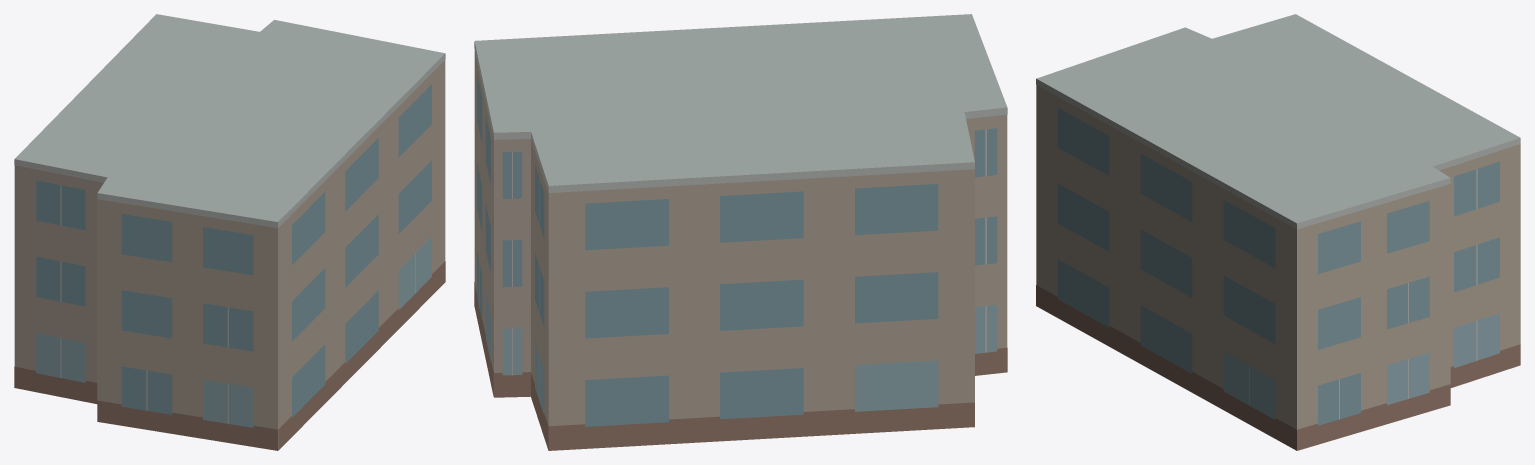
The model's file is survey-upis-32602744.glb.
3 renders of one model, left to right at view 1: azimuth 30°, elevation 25°; view 2: azimuth 150°, elevation 25°; view 3: azimuth 270°, elevation 25°, orthographic. The views are drawn at different scales.
Parts seen in each view (by area): view 1: survey-upis-32602744.tmp; view 2: survey-upis-32602744.tmp; view 3: survey-upis-32602744.tmp.
Part boxes in pixels (<box>): survey-upis-32602744.tmp: <box>14,14,445,450</box>; survey-upis-32602744.tmp: <box>474,14,1007,450</box>; survey-upis-32602744.tmp: <box>1036,14,1520,450</box>.
Bounding box in the file's own units: 18.08 × 9.15 × 17.67.
